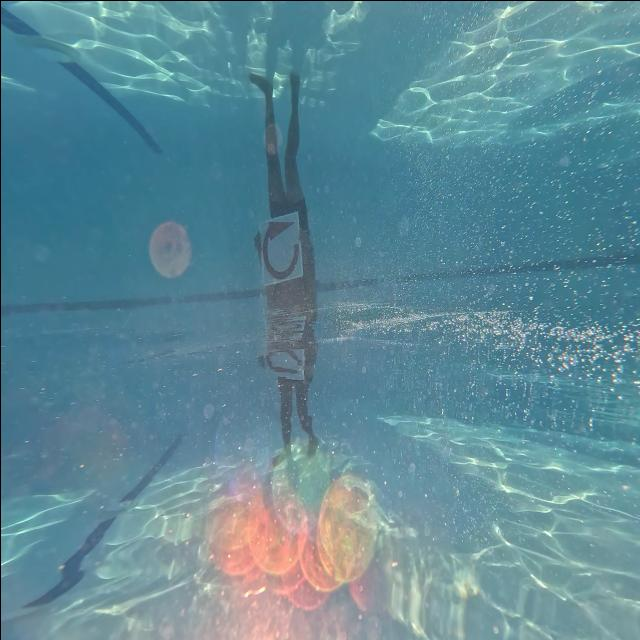red_side: (258, 212, 302, 283)
